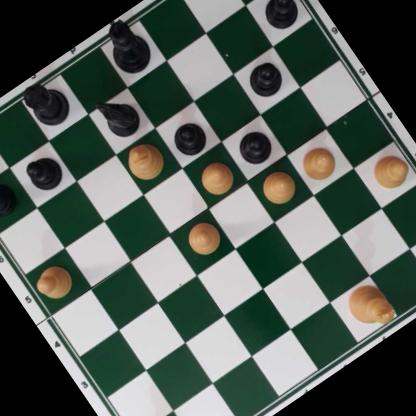black-king: (94, 13, 158, 82)
black-knight: (90, 87, 144, 144)
black-pawn: (163, 114, 211, 163), (21, 149, 68, 197), (231, 123, 278, 170), (241, 55, 288, 102), (255, 0, 306, 36), (0, 173, 22, 226)
black-rook: (15, 71, 76, 135)
white-bishop: (118, 134, 171, 188)
white-king: (339, 276, 398, 338)
white-pawn: (365, 146, 416, 197), (294, 138, 343, 188), (192, 155, 240, 203), (254, 164, 301, 212), (29, 260, 77, 307), (180, 216, 225, 261)
